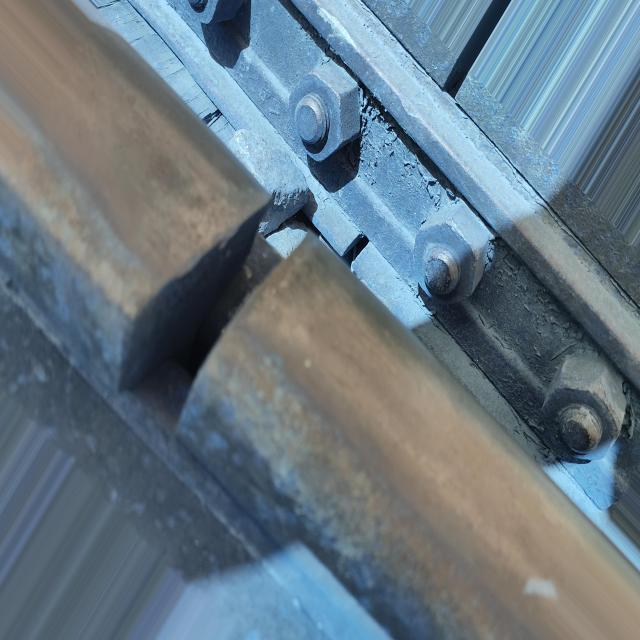Good Joint: (168, 0, 639, 509)
